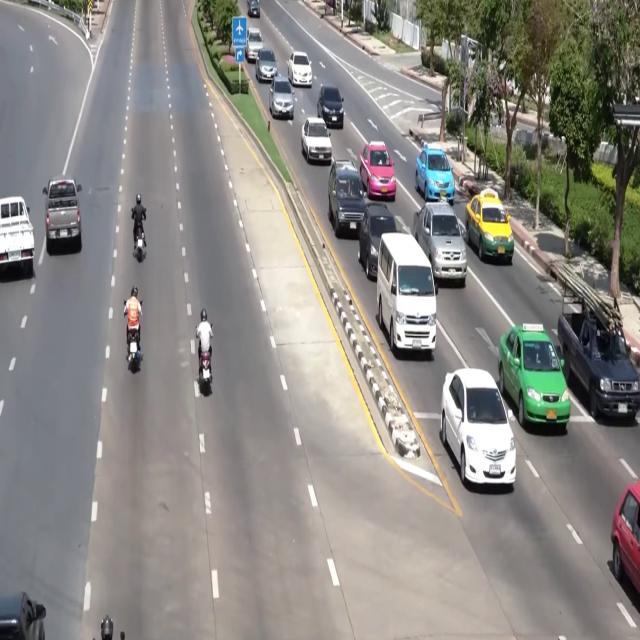car: (440, 368, 516, 485), (498, 324, 570, 426), (412, 202, 466, 287), (466, 188, 514, 263), (611, 482, 639, 591), (358, 203, 397, 279), (329, 158, 365, 237), (415, 143, 454, 205), (359, 141, 396, 200), (0, 592, 45, 639), (301, 117, 332, 162), (317, 86, 343, 128), (269, 76, 294, 119), (288, 51, 312, 87), (255, 48, 277, 83), (245, 28, 263, 62), (247, 0, 260, 17)
scooty: (128, 329, 141, 372), (135, 227, 145, 263)
truck: (553, 264, 639, 423), (43, 176, 81, 253), (0, 197, 34, 277)
